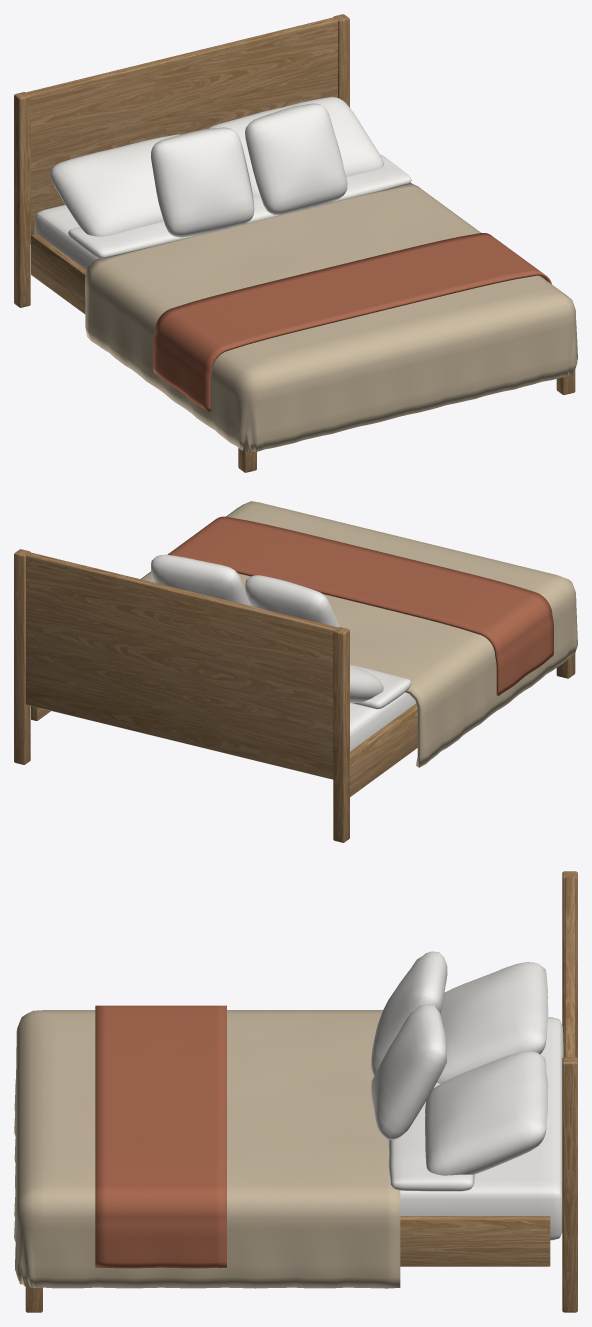
File: cama_madera_160.glb
3 renders of one model, top to bottom at view 1: azimuth 30°, elevation 25°; view 2: azimuth 150°, elevation 25°; view 3: azimuth 270°, elevation 25°, orthographic. The views are drawn at different scales.
Parts seen in each view (by area): view 1: cama_madera_160; view 2: cama_madera_160; view 3: cama_madera_160.
Part boxes in pixels (x1,y1,x2,y2): cama_madera_160: (14, 14, 577, 472); cama_madera_160: (14, 501, 577, 842); cama_madera_160: (14, 871, 577, 1312).
Size of the model in its own units: 1.82 by 1.05 by 2.14.
4 materials, 4 textured.
